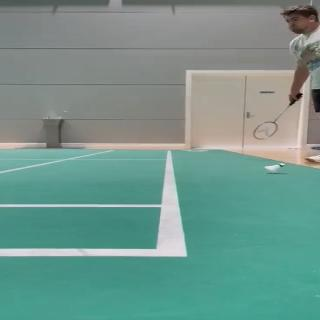Shuttle: (265, 163, 286, 173)
